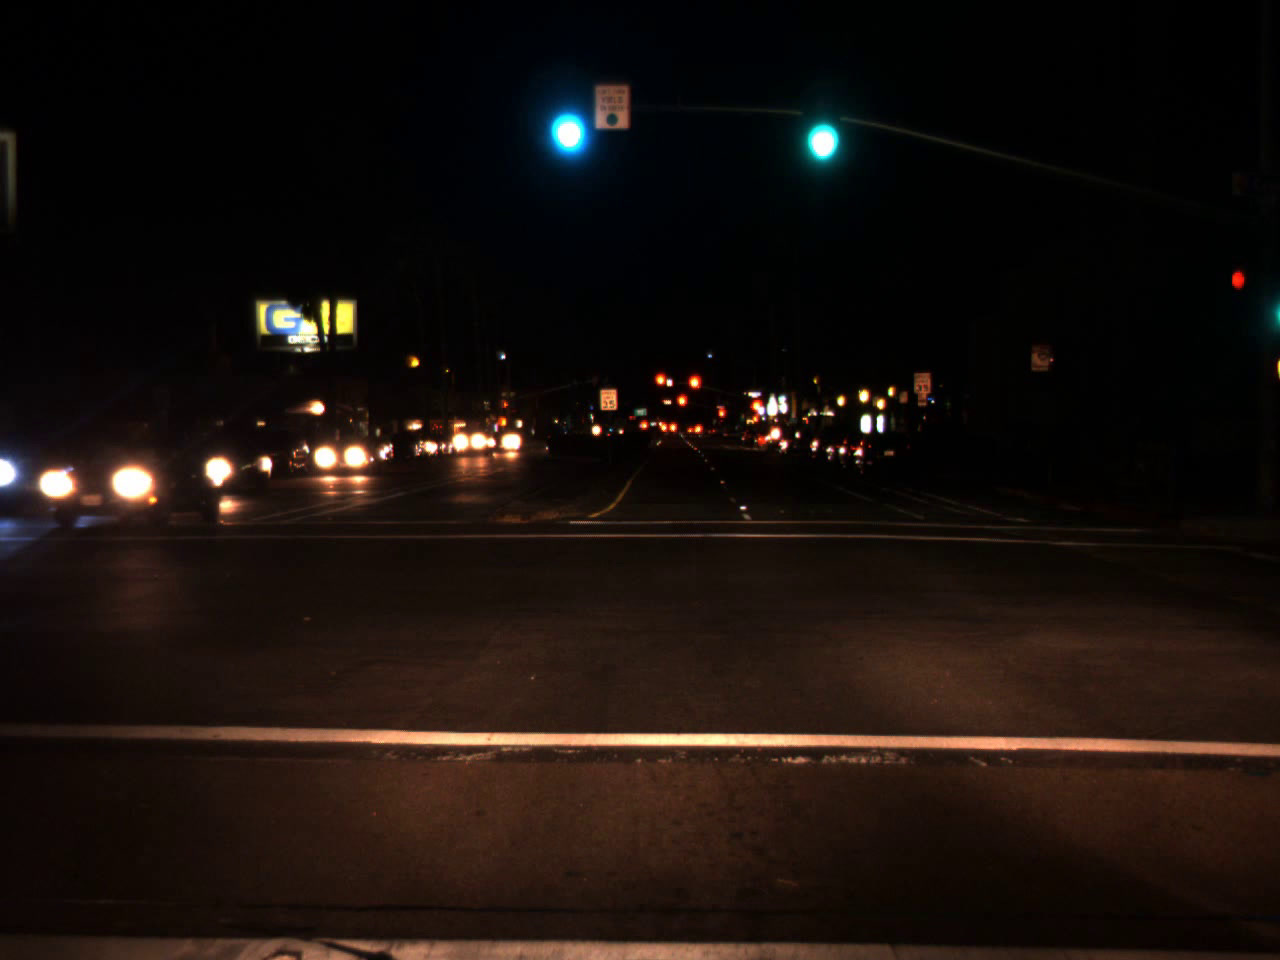go: (544, 74, 589, 161), (797, 84, 842, 171)
stop: (747, 397, 765, 429), (686, 373, 702, 405), (653, 371, 668, 400), (674, 392, 689, 421), (717, 406, 726, 427), (503, 400, 509, 413)
